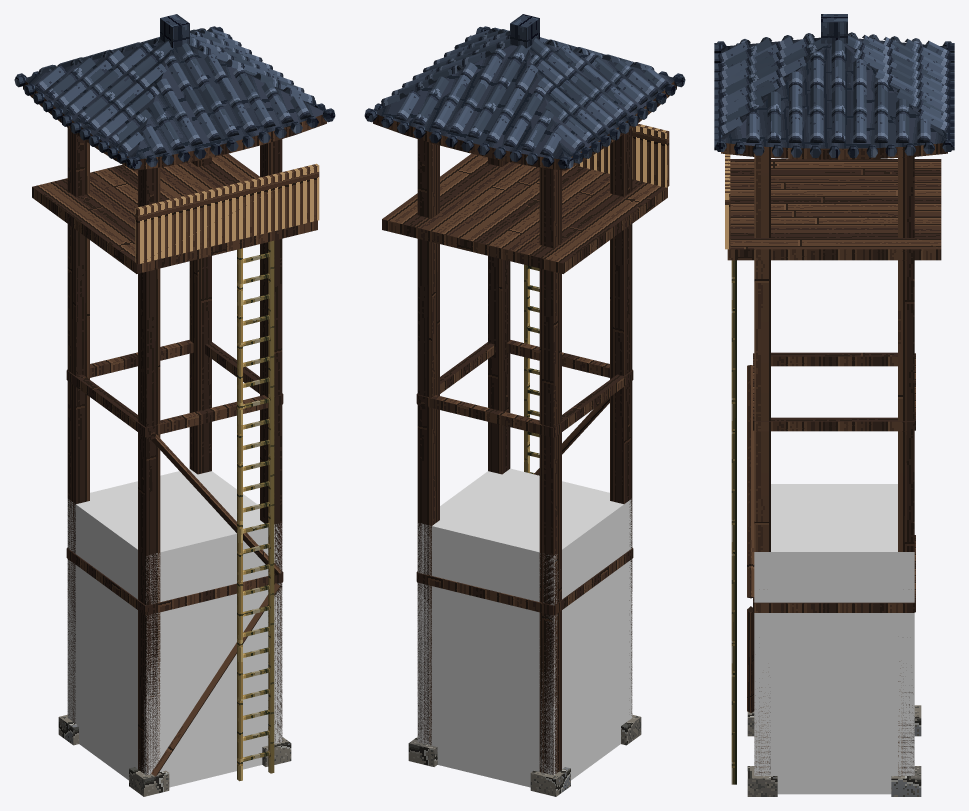
File: JP_Mid_FireWatchtower_A.glb
3 views of the same model, side by side, from view 1: azimuth 30°, elevation 25°; view 2: azimuth 150°, elevation 25°; view 3: azimuth 270°, elevation 25° (orthographic). The views are drawn at different scales.
Parts seen in each view (by area): view 1: JP_Mid_FireWatchtower_A, COL_JP_Mid_FireWatchtower_A; view 2: JP_Mid_FireWatchtower_A, COL_JP_Mid_FireWatchtower_A; view 3: JP_Mid_FireWatchtower_A, COL_JP_Mid_FireWatchtower_A.
Part boxes in pixels (x1,y1,x2,y2): JP_Mid_FireWatchtower_A: (14, 14, 335, 796); COL_JP_Mid_FireWatchtower_A: (67, 468, 282, 787); JP_Mid_FireWatchtower_A: (364, 14, 685, 796); COL_JP_Mid_FireWatchtower_A: (417, 468, 632, 787); JP_Mid_FireWatchtower_A: (714, 14, 954, 796); COL_JP_Mid_FireWatchtower_A: (754, 484, 914, 794).
Size of the model in its own units: 3.6 by 12.25 by 3.6.
8 materials, 8 textured.
